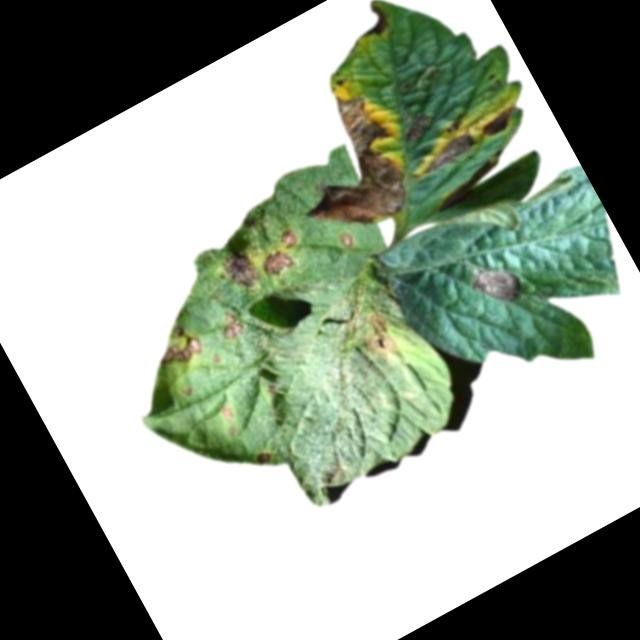Early_blight: (261, 77, 427, 250), (463, 249, 529, 313), (149, 316, 207, 374), (350, 308, 405, 368), (414, 126, 480, 176), (220, 246, 263, 293), (397, 106, 438, 145), (259, 243, 301, 281), (477, 105, 519, 141), (353, 2, 391, 39), (214, 306, 248, 343), (279, 224, 304, 250), (336, 228, 356, 250), (255, 446, 275, 468)
